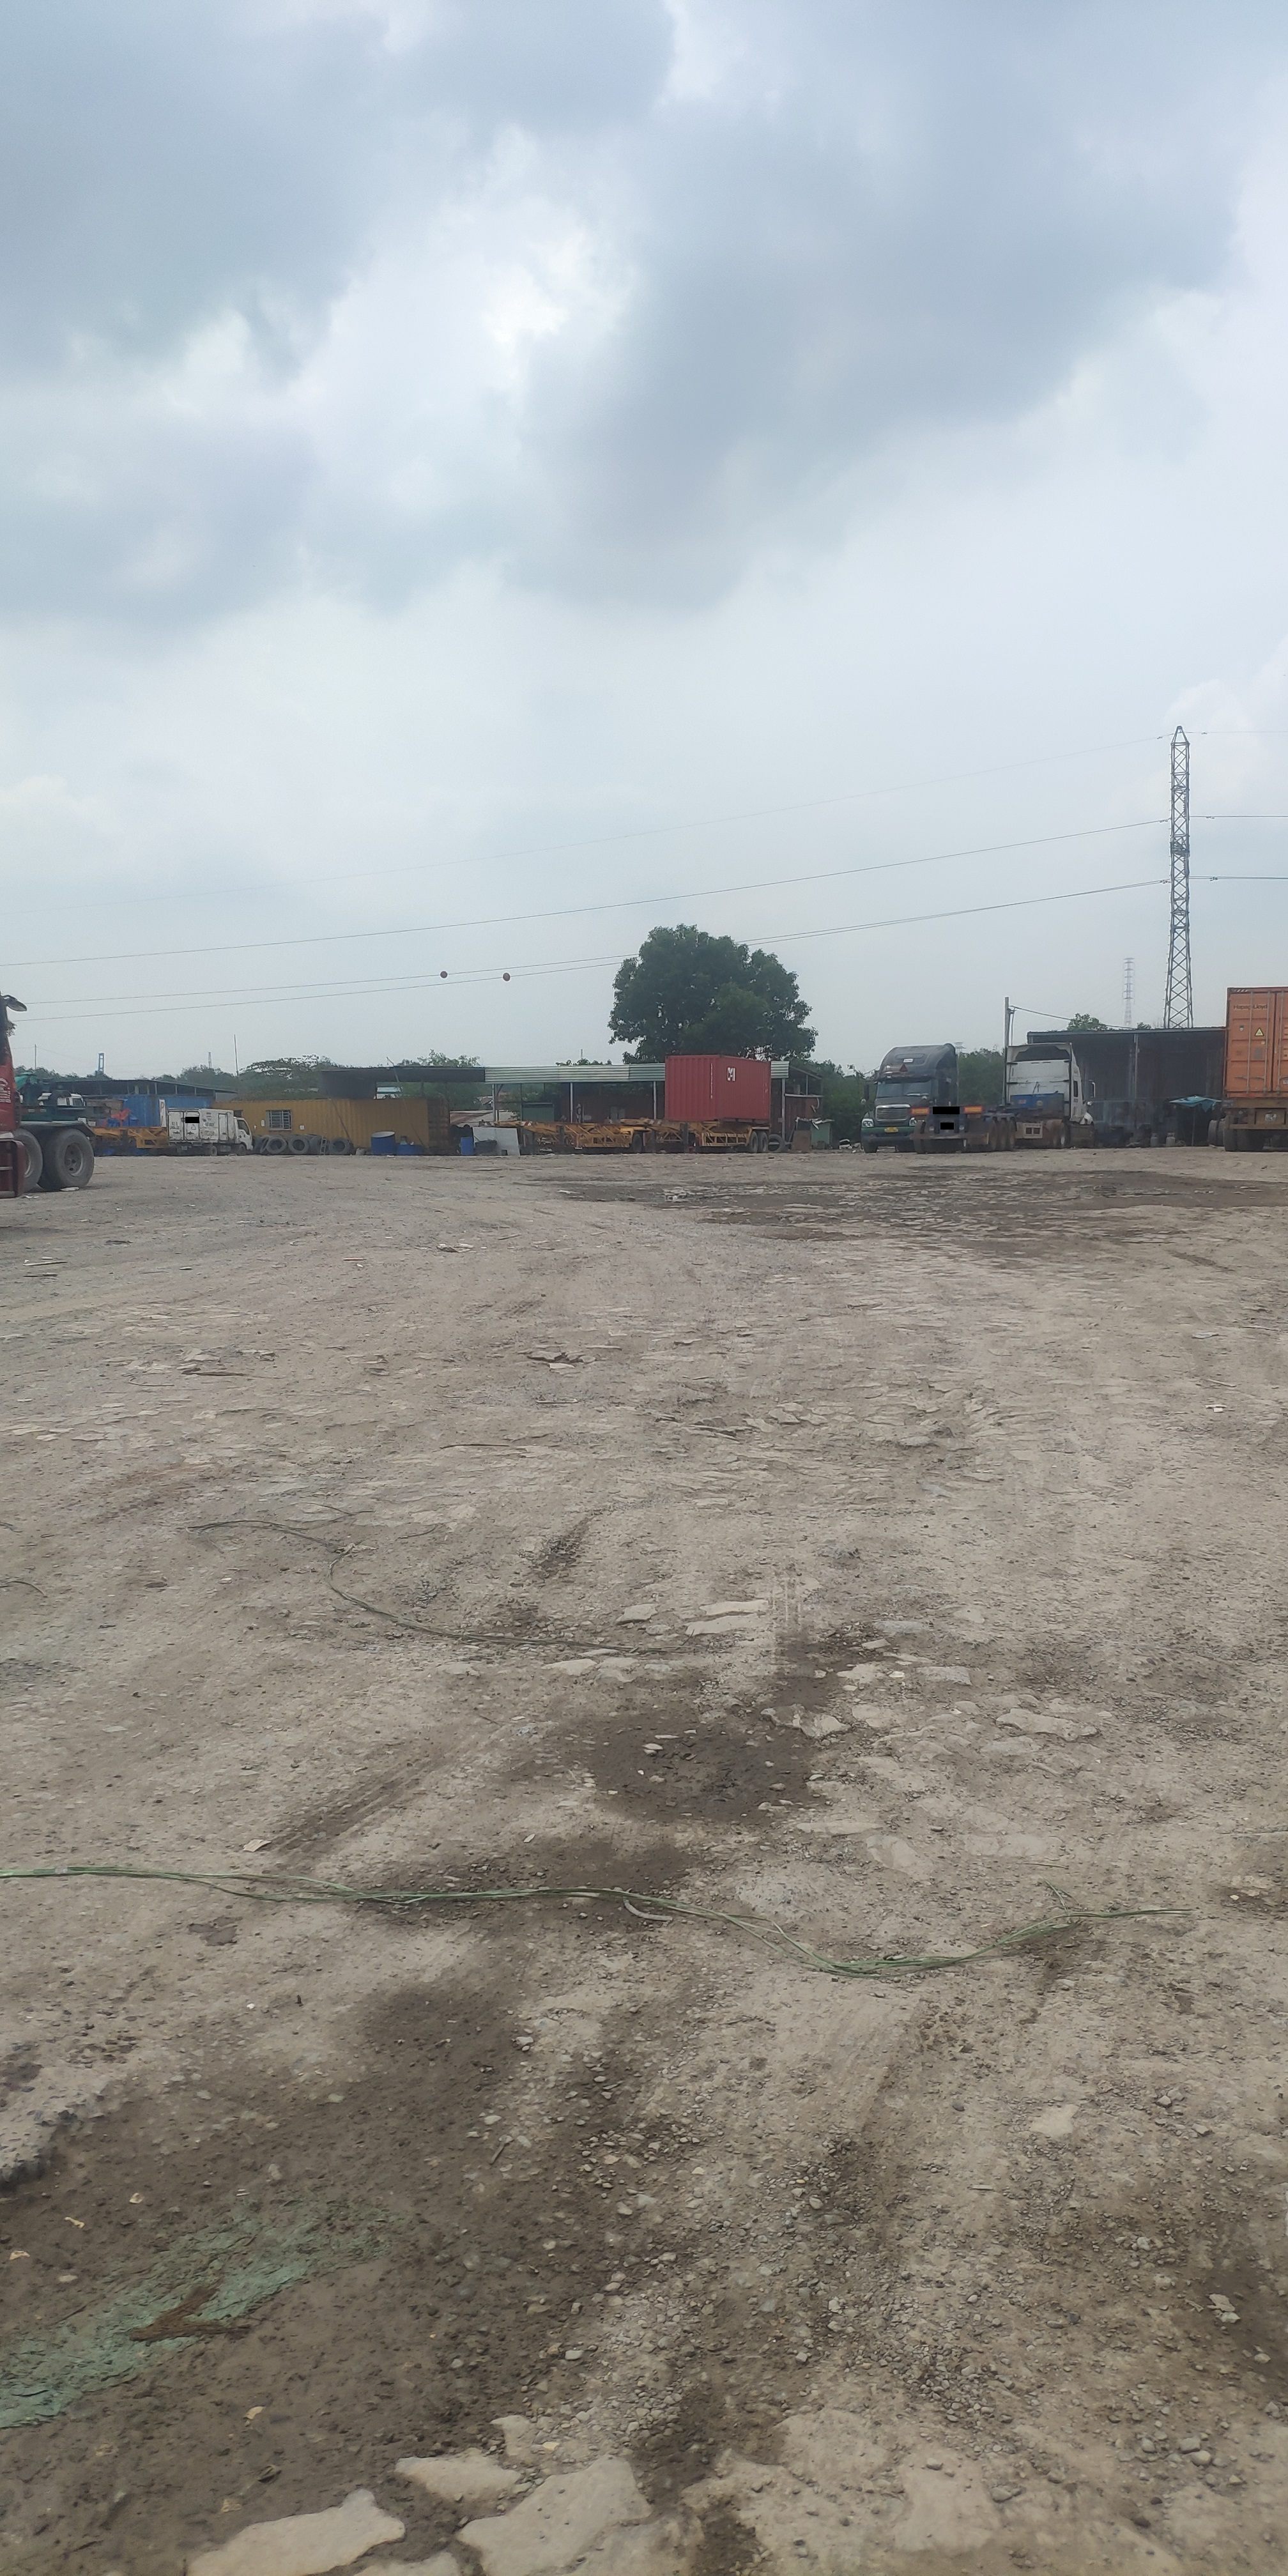hole: (0, 2070, 531, 2499), (176, 1490, 734, 1666), (347, 1833, 724, 1943), (667, 1360, 997, 1475), (560, 1686, 810, 1828), (1028, 1165, 1262, 1212), (670, 1188, 858, 1214), (517, 1336, 603, 1378), (526, 1171, 655, 1184), (905, 1160, 1004, 1176), (854, 1170, 958, 1184)
